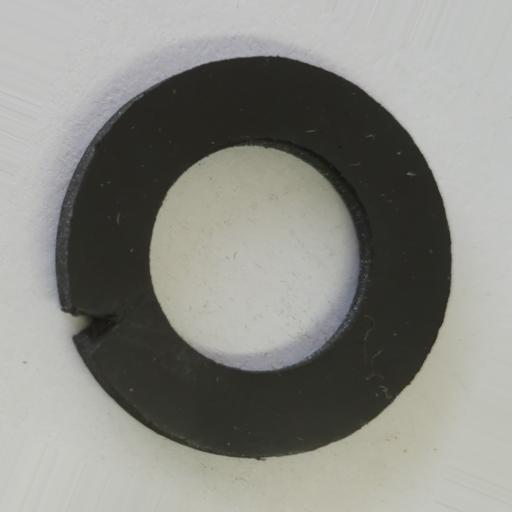defect: (62, 307, 125, 360)
